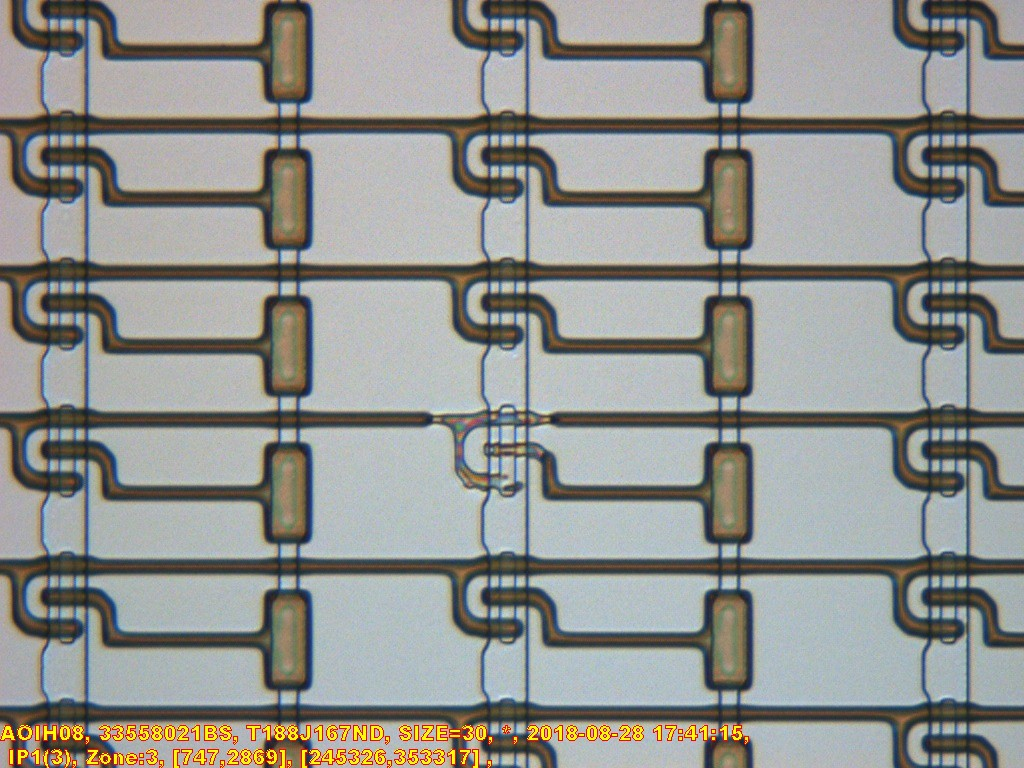good: (3, 107, 131, 209), (443, 106, 571, 208), (884, 107, 1012, 209), (3, 254, 131, 356), (443, 253, 571, 355), (884, 254, 1012, 356), (3, 401, 131, 503), (884, 400, 1012, 502), (3, 548, 131, 650), (443, 547, 571, 649), (884, 548, 1012, 650), (256, 0, 316, 109), (696, 0, 756, 109), (256, 145, 316, 254), (696, 145, 756, 254), (256, 292, 316, 401), (696, 292, 756, 401), (255, 439, 315, 548), (696, 439, 756, 548), (255, 586, 315, 695), (696, 586, 756, 695)
test: (427, 395, 571, 502)
